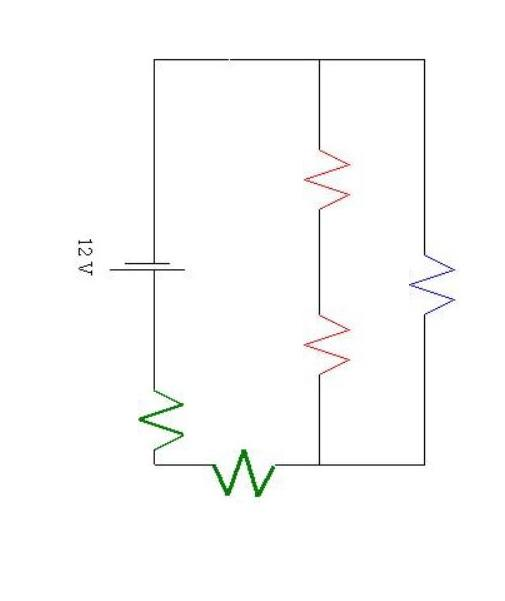resistor: (282, 283, 372, 396), (403, 209, 482, 335), (294, 112, 367, 229), (195, 432, 287, 502)
